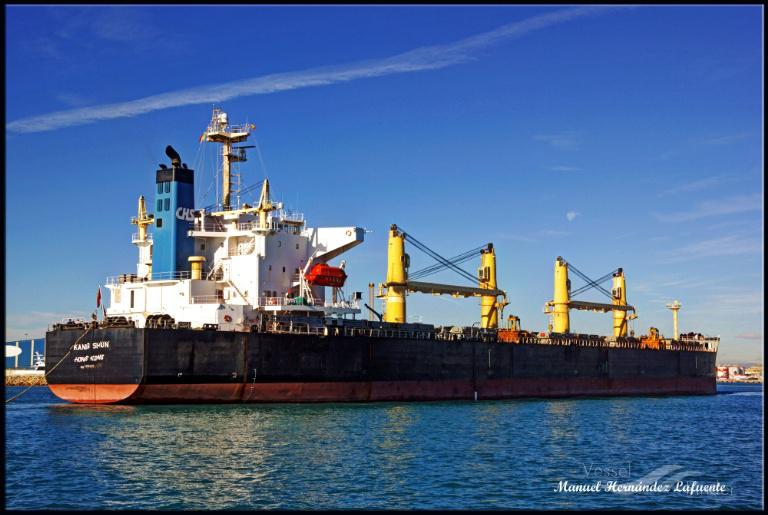OCR: (70, 334, 116, 378)
